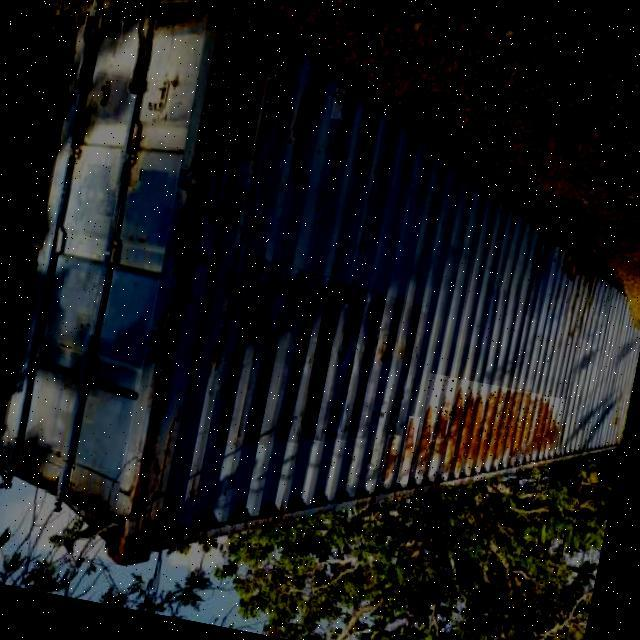Rust: (410, 373, 566, 503), (196, 0, 264, 155), (260, 33, 292, 131), (397, 416, 421, 485), (148, 367, 174, 417), (380, 434, 400, 485), (331, 88, 351, 121)
